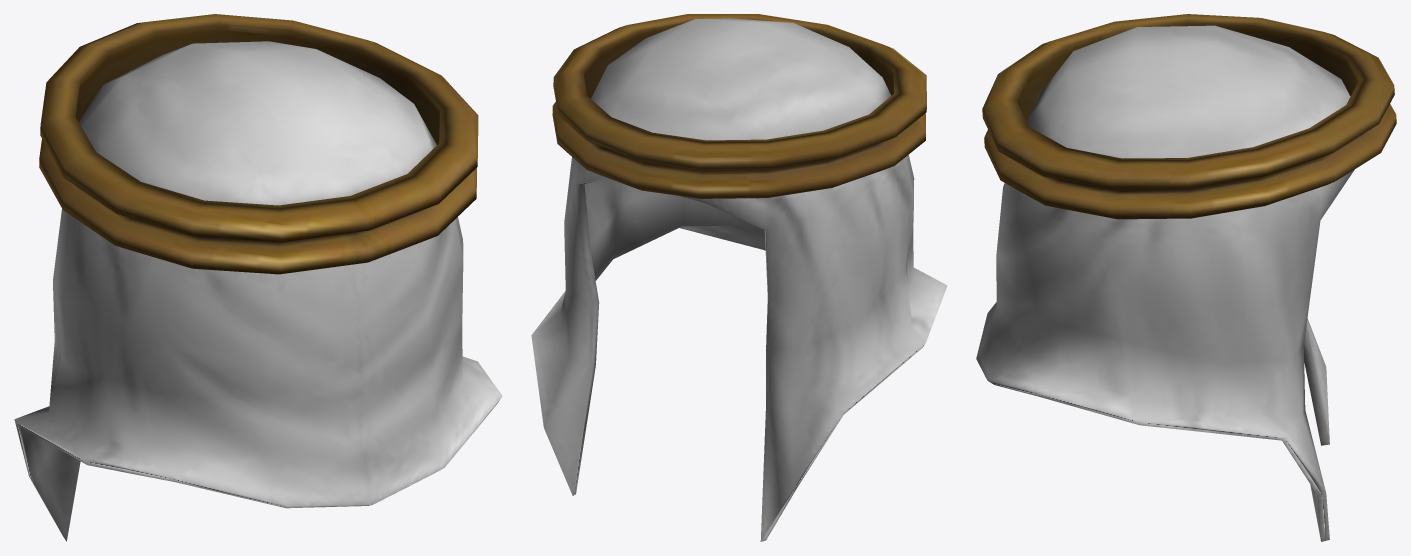
Rendered from headdress.glb.
The picture shows the model from 3 angles, left to right: view 1: azimuth 30°, elevation 25°; view 2: azimuth 150°, elevation 25°; view 3: azimuth 270°, elevation 25°; orthographic projection. The views are drawn at different scales.
Parts seen in each view (by area): view 1: Object_2; view 2: Object_2; view 3: Object_2.
Boxes of the visible parts, bbox=[...] form: Object_2: bbox=[14, 14, 502, 541]; Object_2: bbox=[531, 14, 947, 541]; Object_2: bbox=[976, 14, 1396, 541].
Size of the model in its own units: 1.6 by 1.95 by 1.67.
Materials: 1 (1 with a texture image).
